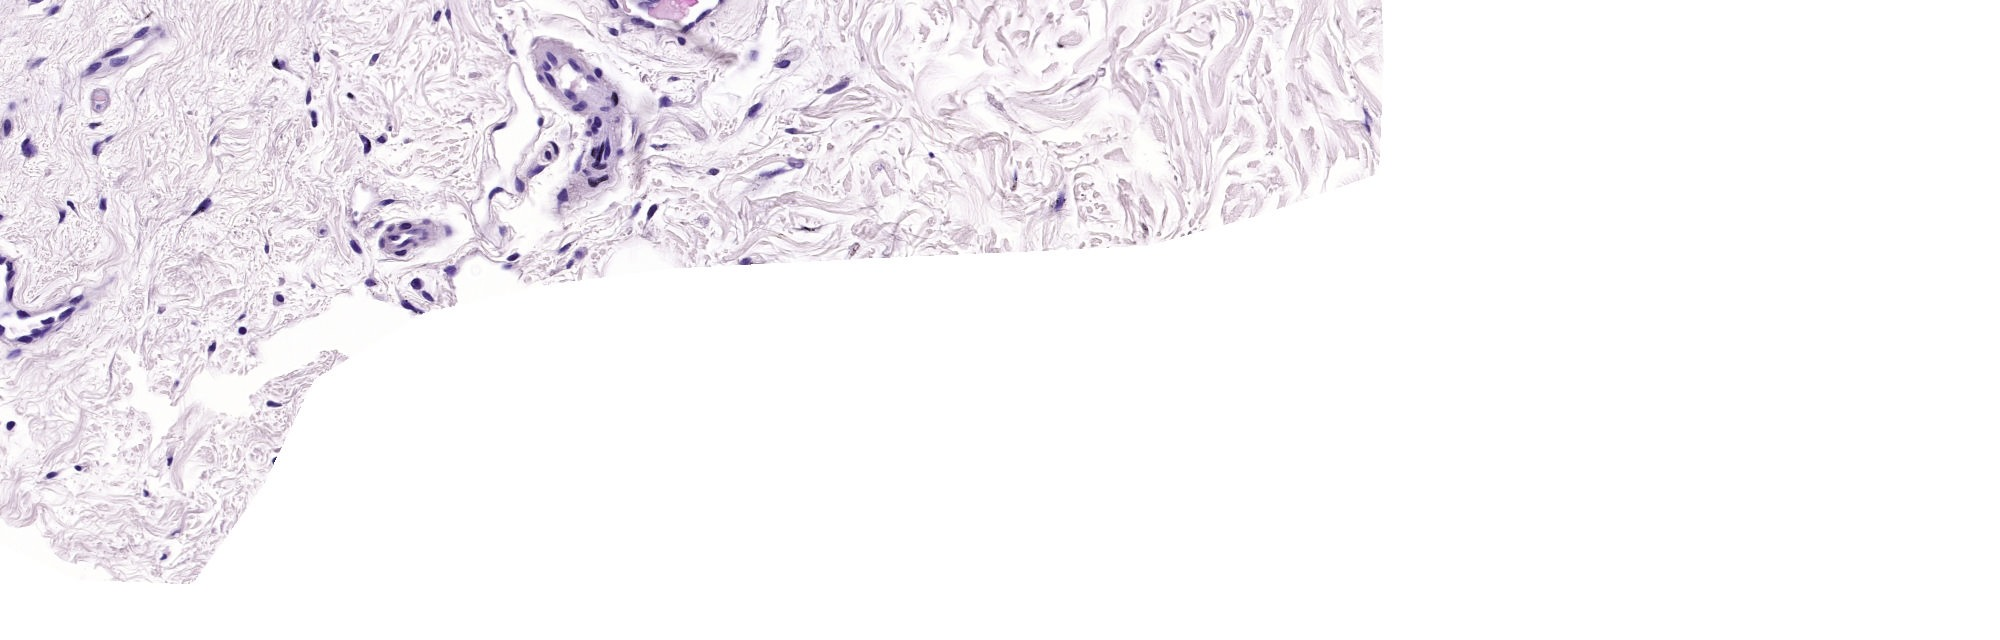fibroblast and endothelial: (364, 139, 369, 147), (832, 87, 839, 92), (62, 312, 71, 316), (550, 55, 556, 60), (573, 62, 577, 68), (633, 19, 640, 22), (416, 280, 418, 288), (369, 280, 372, 286), (315, 54, 318, 60), (779, 62, 786, 65), (48, 473, 55, 476), (378, 223, 381, 227), (110, 51, 115, 54), (114, 61, 119, 64), (550, 76, 552, 82), (577, 106, 582, 108), (599, 150, 601, 161), (533, 170, 538, 172), (562, 247, 568, 250), (511, 256, 517, 259), (423, 293, 429, 296), (8, 273, 10, 278), (43, 320, 48, 323), (138, 32, 142, 34), (92, 66, 94, 70), (6, 122, 8, 130), (102, 204, 105, 208), (596, 71, 599, 74), (570, 93, 573, 97), (596, 119, 598, 122), (594, 131, 598, 134), (591, 181, 594, 184), (519, 184, 522, 187), (492, 190, 496, 193), (384, 201, 388, 204), (401, 252, 404, 255), (700, 14, 703, 18), (73, 300, 77, 302), (597, 166, 603, 167), (61, 215, 62, 221), (307, 98, 309, 103), (546, 65, 548, 68), (614, 96, 615, 101), (562, 194, 564, 199), (651, 209, 653, 212), (611, 31, 614, 33), (712, 171, 714, 173), (20, 312, 23, 315), (24, 338, 27, 340), (163, 556, 166, 558), (607, 150, 608, 154), (555, 144, 556, 148), (404, 226, 408, 227), (682, 29, 686, 31), (753, 108, 754, 112), (790, 131, 793, 133), (9, 264, 10, 268), (168, 458, 170, 462), (70, 204, 71, 207), (436, 14, 437, 17), (648, 24, 651, 25), (681, 40, 682, 42), (406, 305, 407, 307), (381, 241, 383, 244), (54, 10, 55, 11), (267, 247, 268, 249), (390, 228, 392, 229), (77, 467, 78, 468)
inflammatory: (269, 403, 276, 405), (210, 345, 214, 348), (276, 62, 278, 65), (381, 139, 384, 142), (278, 297, 281, 298)
lymphocyte: (242, 328, 244, 333), (9, 425, 11, 427)
